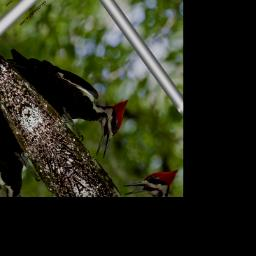Woodpecker: (4, 3, 145, 174)
